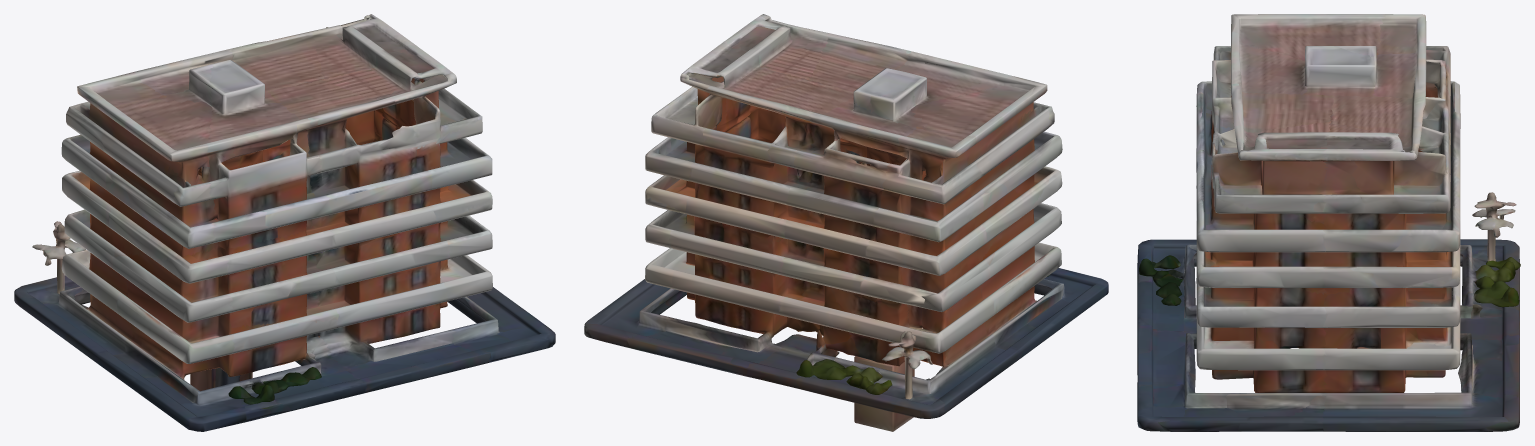
File: apartment_modern.glb
3 renders of one model, left to right at view 1: azimuth 30°, elevation 25°; view 2: azimuth 150°, elevation 25°; view 3: azimuth 270°, elevation 25°, orthographic. The views are drawn at different scales.
Parts seen in each view (by area): view 1: tripo_node_463605b5-c32f-4915-8af1-fc7eb3ff8f02; view 2: tripo_node_463605b5-c32f-4915-8af1-fc7eb3ff8f02; view 3: tripo_node_463605b5-c32f-4915-8af1-fc7eb3ff8f02.
Part boxes in pixels (x1,y1,x2,y2): tripo_node_463605b5-c32f-4915-8af1-fc7eb3ff8f02: [14, 14, 555, 431]; tripo_node_463605b5-c32f-4915-8af1-fc7eb3ff8f02: [584, 14, 1108, 431]; tripo_node_463605b5-c32f-4915-8af1-fc7eb3ff8f02: [1137, 14, 1520, 431].
Size of the model in its own units: 0.9508 by 0.8484 by 0.8402.
1 material, 1 textured.
